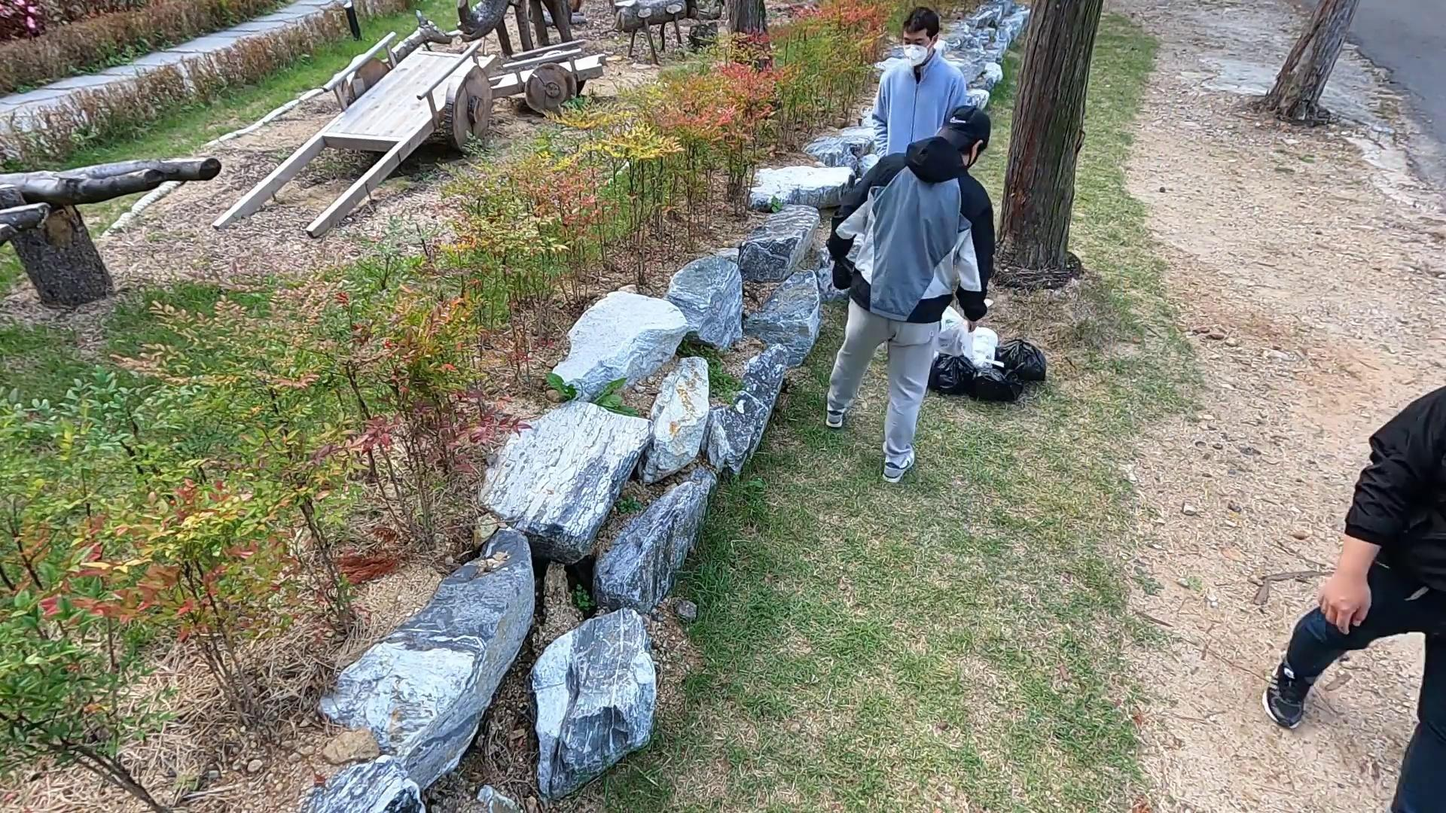person: (1261, 373, 1446, 813), (827, 102, 1004, 489), (864, 2, 973, 221)
trash: (966, 356, 1030, 404), (928, 346, 978, 404), (996, 332, 1047, 388), (957, 324, 1002, 368), (938, 307, 968, 360)
